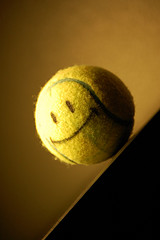tennis ball: (34, 64, 136, 166)
